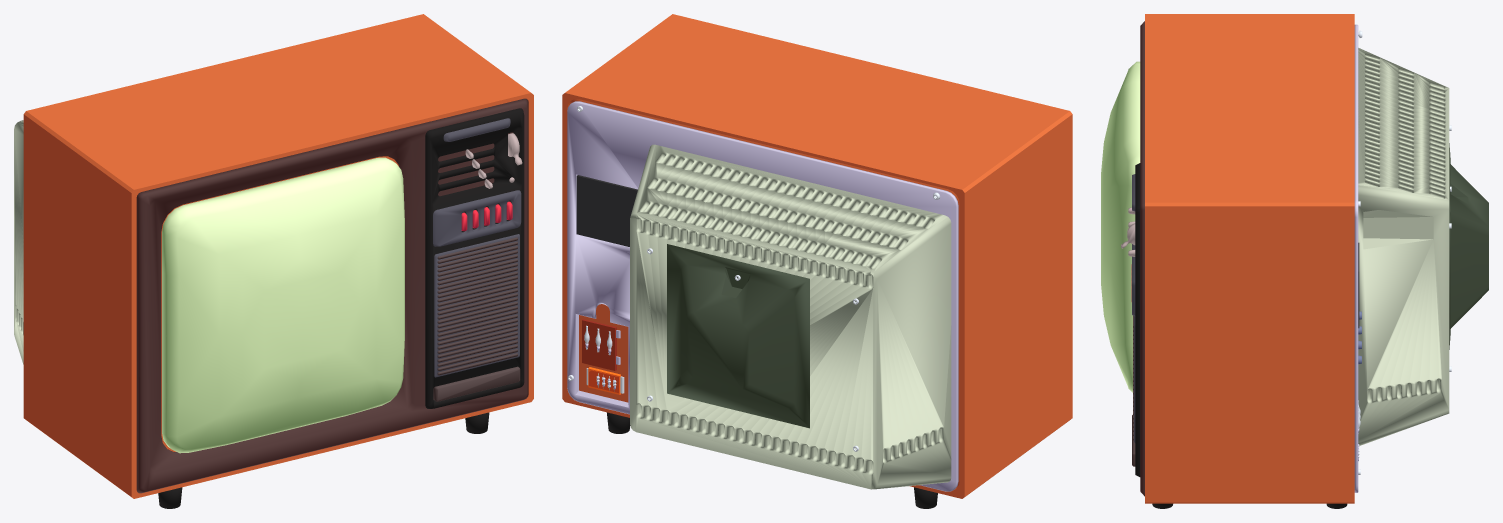
Rendered from rubin.glb.
3 views of the same model, side by side, from view 1: azimuth 30°, elevation 25°; view 2: azimuth 150°, elevation 25°; view 3: azimuth 270°, elevation 25° (orthographic). The views are drawn at different scales.
Visible parts, largest first — view 1: rubin_Material.005, rubin_screen, rubin_Material.004, rubin_Material.003, rubin_Material.006, rubin_Material.002, rubin_Material.009, rubin_Material.001, rubin_Material.007; view 2: rubin_Material.005, rubin_Material.009, rubin_Material.008, rubin_Material.010, rubin_Material.014, rubin_Material.015, rubin_Material.003, rubin_Material.011; view 3: rubin_Material.005, rubin_Material.009, rubin_screen, rubin_Material.010, rubin_Material.004, rubin_Material.008, rubin_Material.003, rubin_Material.002.
Part boxes in pixels (x1,y1,x2,y2): rubin_Material.005: [23, 14, 533, 498]; rubin_screen: [162, 157, 404, 453]; rubin_Material.004: [136, 98, 528, 493]; rubin_Material.003: [158, 108, 524, 508]; rubin_Material.006: [433, 237, 520, 401]; rubin_Material.002: [433, 118, 521, 377]; rubin_Material.009: [14, 120, 23, 364]; rubin_Material.001: [461, 201, 512, 231]; rubin_Material.007: [465, 133, 522, 188]; rubin_Material.005: [562, 14, 1072, 498]; rubin_Material.009: [598, 144, 951, 489]; rubin_Material.008: [567, 101, 958, 491]; rubin_Material.010: [667, 244, 809, 428]; rubin_Material.014: [576, 175, 637, 246]; rubin_Material.015: [582, 319, 616, 370]; rubin_Material.003: [607, 412, 937, 508]; rubin_Material.011: [568, 106, 940, 451]; rubin_Material.005: [1145, 14, 1354, 503]; rubin_Material.009: [1358, 48, 1449, 445]; rubin_screen: [1101, 61, 1140, 392]; rubin_Material.010: [1449, 143, 1488, 349]; rubin_Material.004: [1140, 21, 1144, 496]; rubin_Material.008: [1354, 24, 1359, 492]; rubin_Material.003: [1135, 163, 1347, 508]; rubin_Material.002: [1132, 174, 1135, 443].
Bounding box in the file's own units: 0.58 × 0.4577 × 0.4976.
